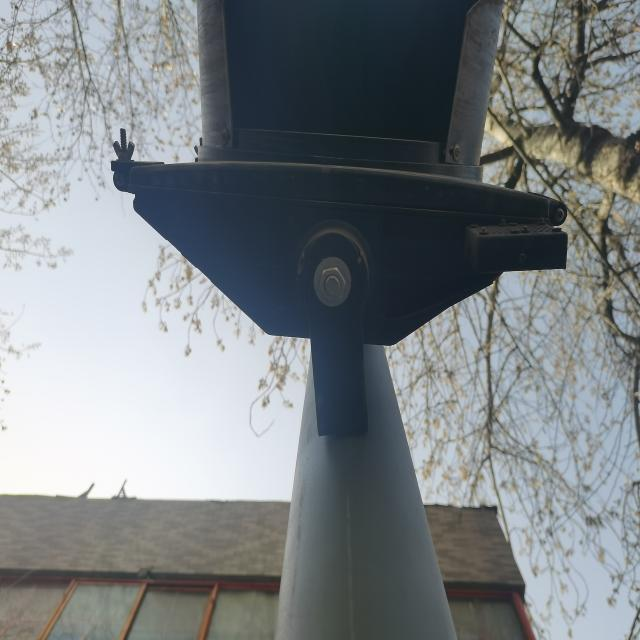bolt nut: (319, 266, 346, 303)
